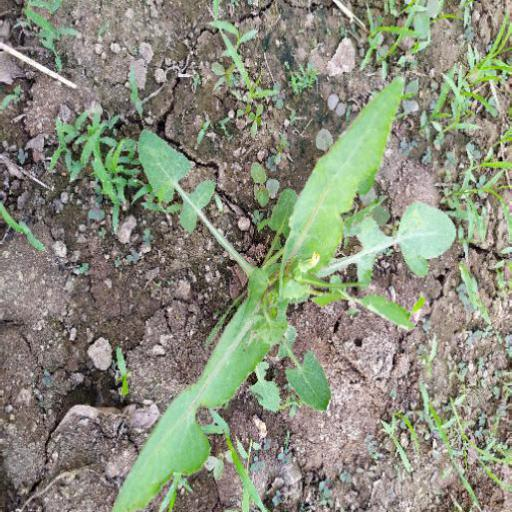weed: (82, 58, 464, 504)
